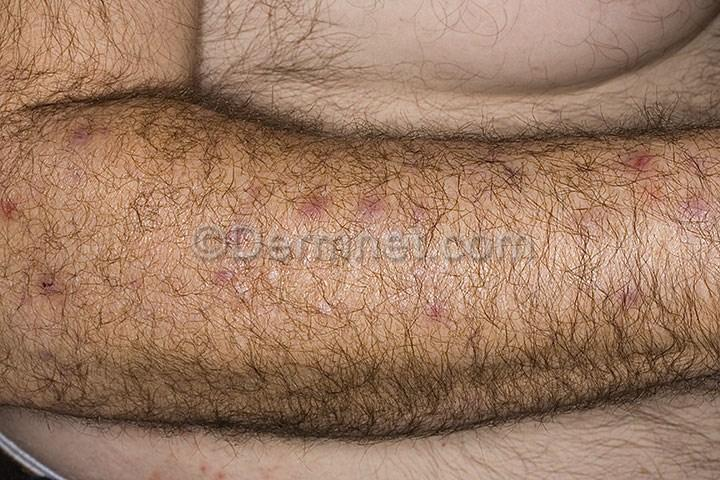Eczema: (219, 217, 312, 272), (22, 267, 113, 320), (58, 120, 118, 175), (608, 141, 668, 192), (354, 182, 409, 237), (285, 168, 338, 224), (548, 202, 613, 246), (610, 280, 664, 332), (195, 257, 256, 300), (412, 280, 463, 328), (678, 187, 720, 237), (0, 187, 32, 232)
